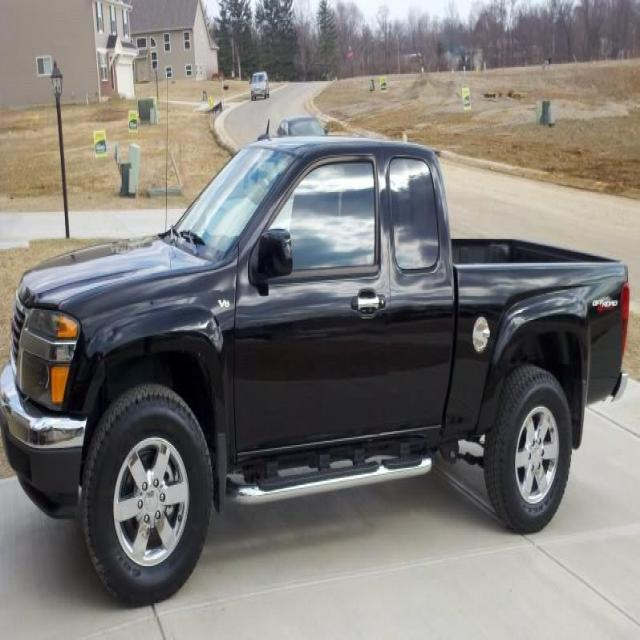car: (1, 116, 630, 604)
